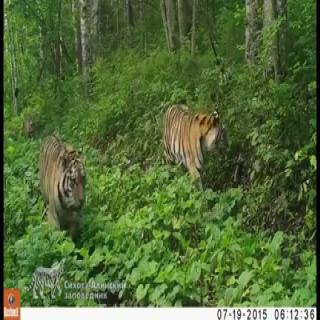Tiger: (152, 97, 226, 195), (35, 128, 89, 242)
